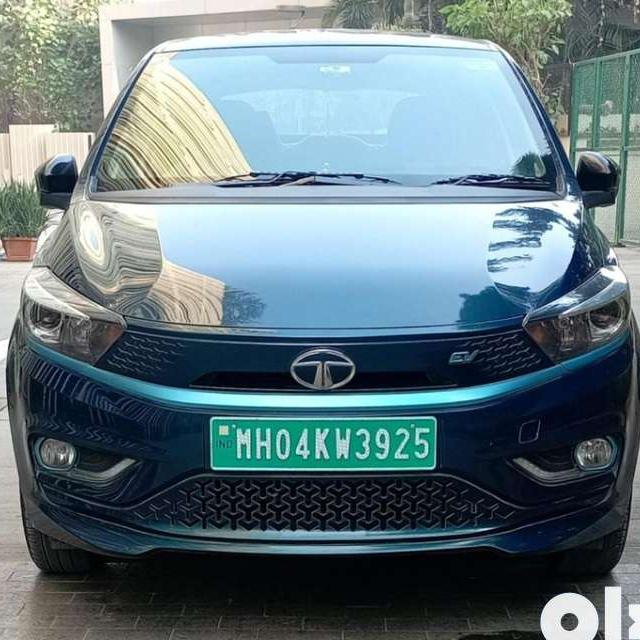Indian_Number_Plate: (207, 416, 438, 469)
